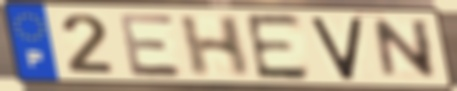2: (58, 12, 119, 77)
E: (242, 12, 313, 82), (115, 11, 187, 79)
H: (176, 14, 253, 79)
N: (370, 18, 440, 81)
V: (308, 15, 365, 82)
